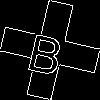B: (25, 25, 68, 76)
